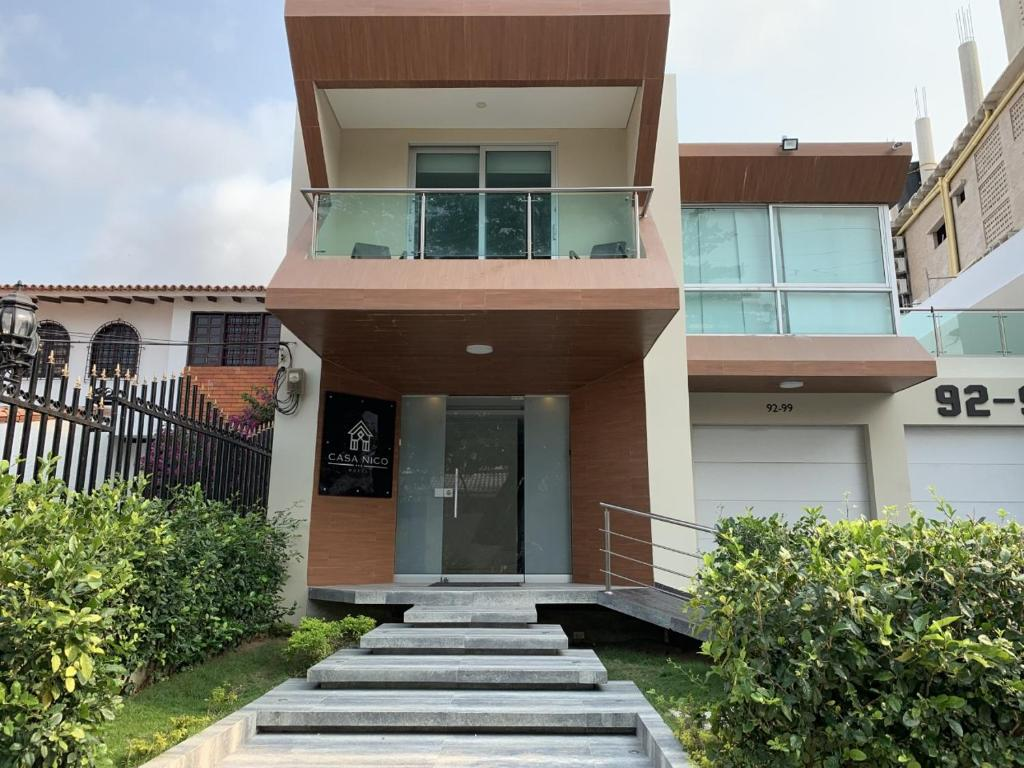House: (252, 2, 932, 649)
